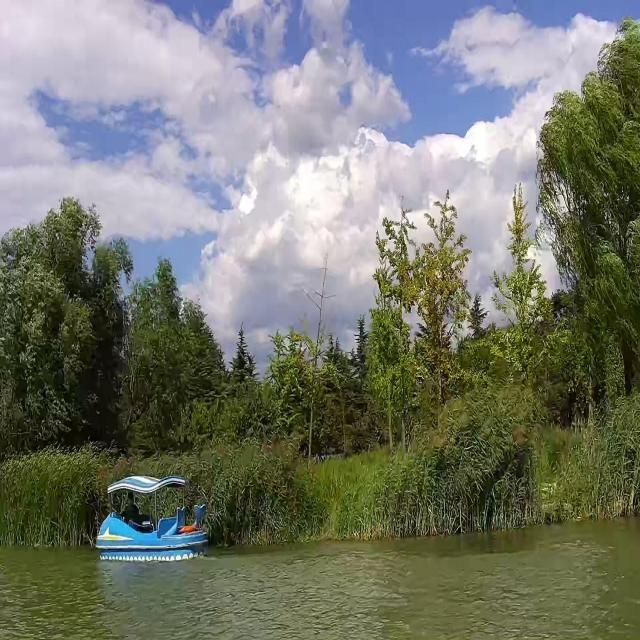CIV_Ship: (93, 477, 210, 566)
